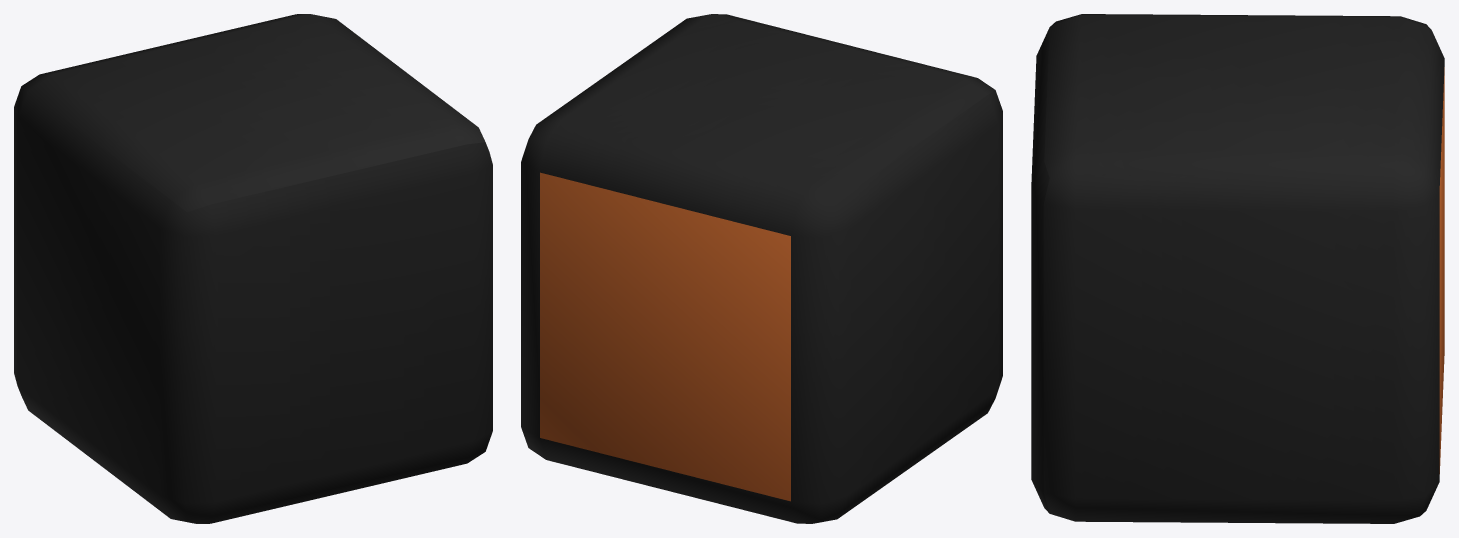
File: Piece2 1.fbx
3 views of the same model, side by side, from view 1: azimuth 30°, elevation 25°; view 2: azimuth 150°, elevation 25°; view 3: azimuth 270°, elevation 25° (orthographic). The views are drawn at different scales.
Parts seen in each view (by area): view 1: RPiece1; view 2: RPiece1; view 3: RPiece1.
Boxes of the visible parts, x1=… form: RPiece1: x1=14, y1=14, x2=492, y2=523; RPiece1: x1=521, y1=14, x2=1002, y2=523; RPiece1: x1=1031, y1=14, x2=1444, y2=523.
Bounding box in the file's own units: 43.92 × 43.37 × 43.92.
